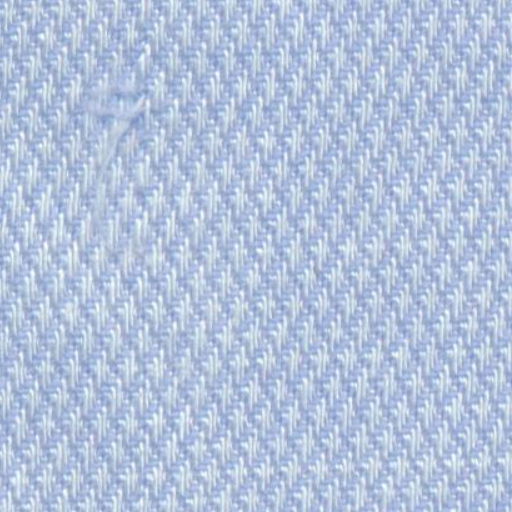DuanSha: (64, 66, 177, 214)
